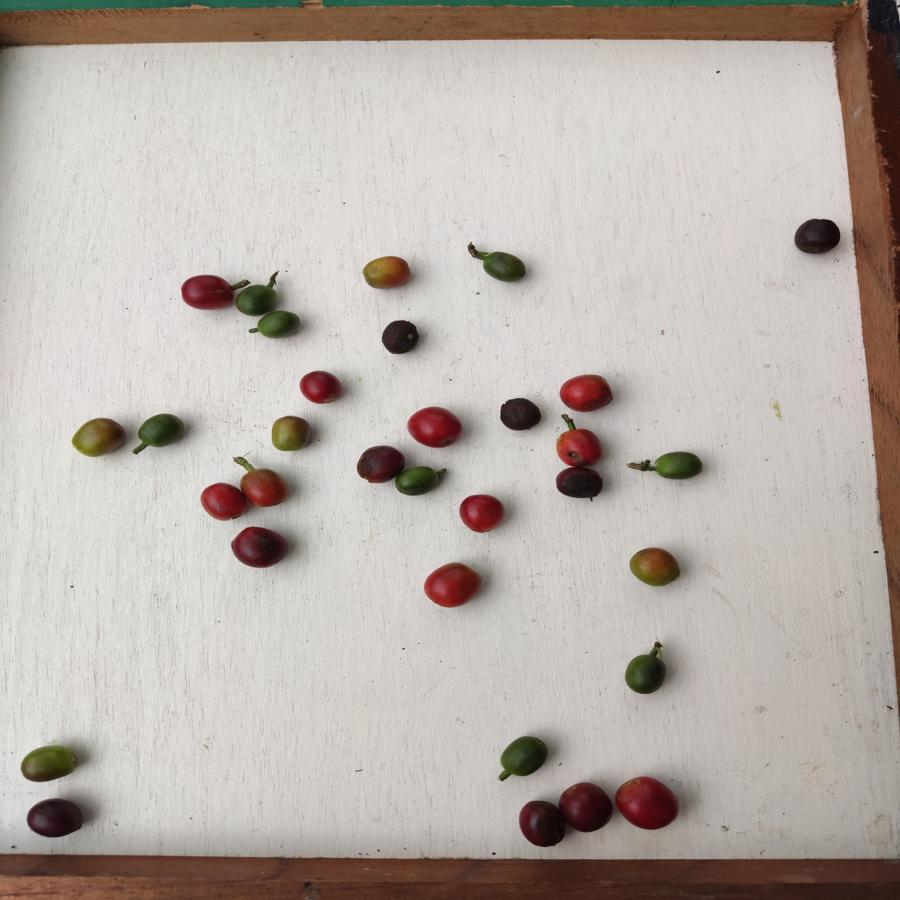Inmaduro: (498, 732, 550, 776), (624, 651, 668, 695), (138, 410, 186, 450), (651, 449, 705, 481), (479, 250, 529, 284), (253, 310, 305, 342), (235, 282, 277, 314), (397, 466, 439, 496)
Maduro: (614, 776, 680, 831), (424, 561, 483, 609), (406, 406, 464, 451), (558, 372, 614, 415), (177, 273, 238, 310), (195, 480, 247, 522), (240, 465, 287, 508), (459, 492, 505, 532), (555, 429, 602, 465), (298, 367, 341, 404)
Pinton: (70, 415, 129, 456), (628, 546, 683, 588), (20, 747, 80, 784), (363, 252, 412, 289), (268, 415, 312, 452)
Sobremaduro: (232, 523, 292, 568), (562, 783, 613, 833), (517, 800, 568, 849), (28, 796, 86, 839), (794, 216, 847, 253), (551, 466, 607, 499), (497, 395, 546, 430), (355, 445, 402, 480), (382, 319, 421, 356)
